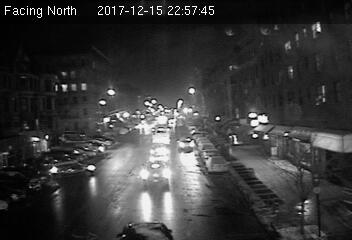bus: (152, 124, 172, 145)
car: (141, 160, 170, 186), (206, 156, 227, 172), (177, 139, 195, 153), (149, 151, 170, 162)
